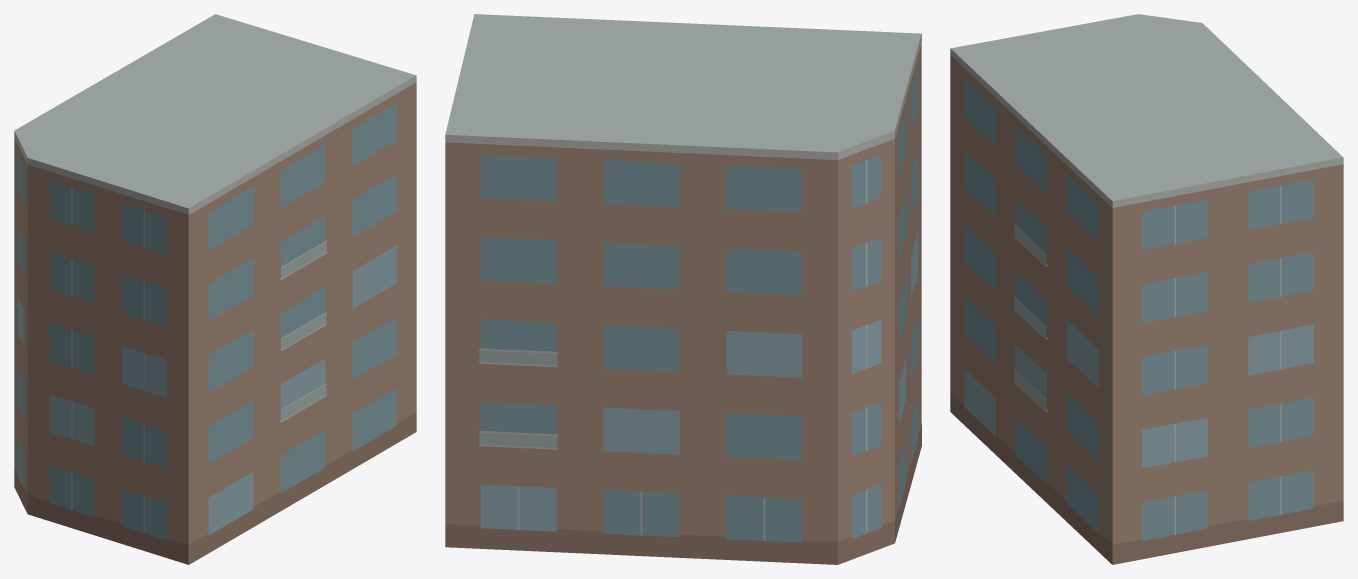
File: survey-upis-32878524.glb
The picture shows the model from 3 angles, left to right: view 1: azimuth 30°, elevation 25°; view 2: azimuth 150°, elevation 25°; view 3: azimuth 270°, elevation 25°; orthographic projection. The views are drawn at different scales.
Parts seen in each view (by area): view 1: survey-upis-32878524.tmp; view 2: survey-upis-32878524.tmp; view 3: survey-upis-32878524.tmp.
Part boxes in pixels (left/top/right/bottom): survey-upis-32878524.tmp: left=14, top=14, right=416, bottom=564; survey-upis-32878524.tmp: left=445, top=14, right=921, bottom=564; survey-upis-32878524.tmp: left=950, top=14, right=1343, bottom=564.
Bounding box in the file's own units: 14.59 × 13.2 × 12.94.
